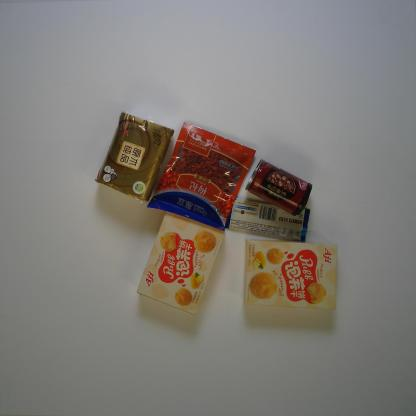Canned Food: (244, 158, 313, 217)
Chocolate: (220, 195, 311, 243)
Dessert: (136, 210, 226, 314), (244, 240, 338, 310)
Dried Fruit: (146, 121, 257, 232)
Tissue: (95, 112, 174, 202)
